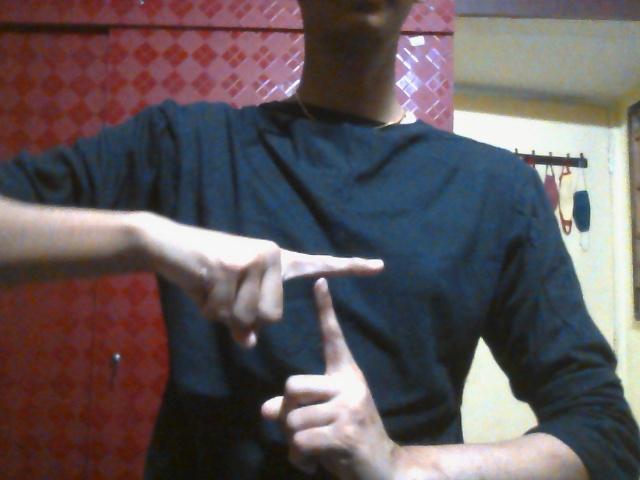T: (166, 218, 384, 478)
